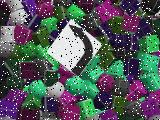Left: (46, 19, 102, 77)
